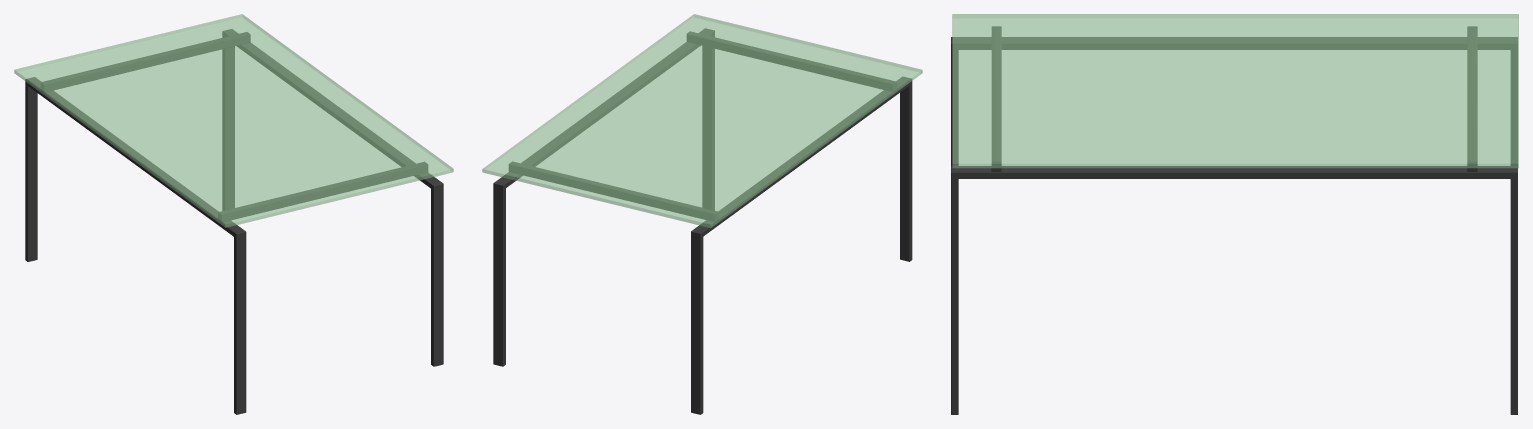
The model's file is Table.FBX.
3 renders of one model, left to right at view 1: azimuth 30°, elevation 25°; view 2: azimuth 150°, elevation 25°; view 3: azimuth 270°, elevation 25°, orthographic. The views are drawn at different scales.
Visible parts, largest first — view 1: table; view 2: table; view 3: table.
Part boxes in pixels (left/top/right/bottom): table: left=14, top=14, right=453, bottom=414; table: left=482, top=14, right=922, bottom=414; table: left=951, top=14, right=1518, bottom=414.
Bounding box in the file's own units: 730 × 1173 × 590.
